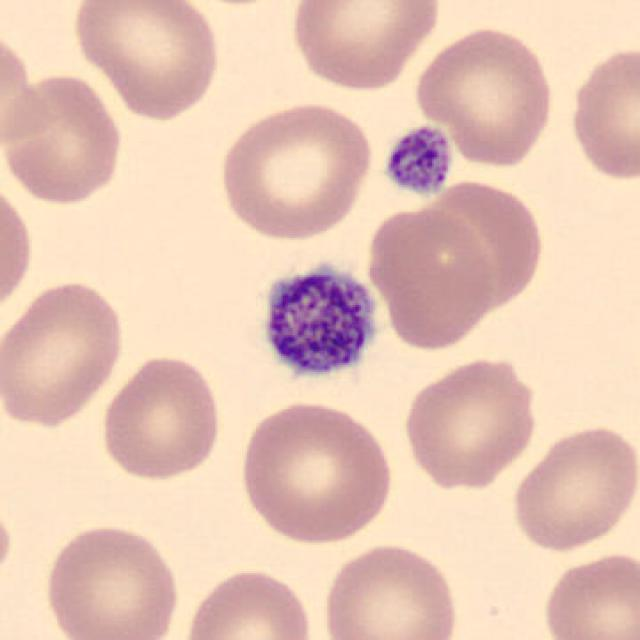Platelets: (252, 256, 384, 388), (379, 123, 457, 200)
RBC: (235, 396, 396, 546), (213, 97, 377, 242), (411, 21, 558, 171), (362, 202, 498, 352), (406, 175, 548, 318), (0, 275, 128, 430), (400, 353, 542, 492), (67, 0, 224, 123), (2, 69, 128, 208), (507, 422, 638, 554), (41, 520, 183, 640), (98, 351, 226, 483), (286, 0, 444, 93), (318, 539, 462, 640), (565, 42, 640, 185), (178, 564, 318, 640), (539, 548, 638, 640), (0, 172, 37, 324), (0, 25, 43, 153), (0, 492, 16, 598)
